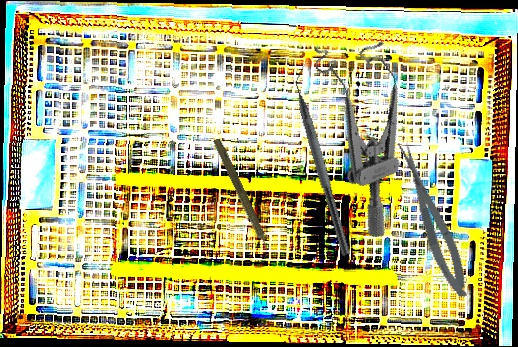Chopper: (284, 61, 364, 257)
Handpiece: (208, 136, 277, 261)
Micro Scissor: (392, 136, 475, 302)
Speculum: (296, 21, 451, 242)
